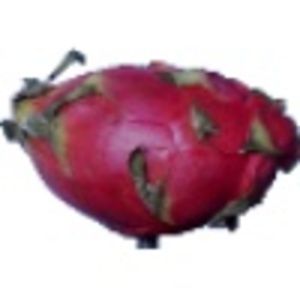pitaia: (1, 49, 300, 251)
